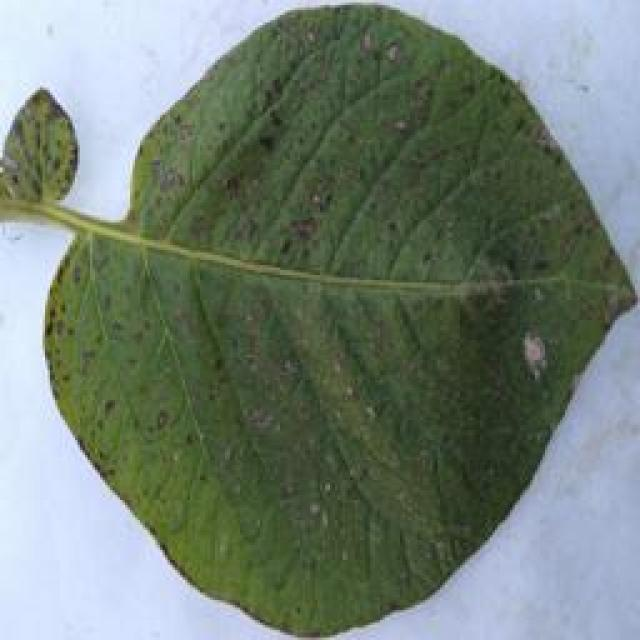Potato_Early_Blight: (35, 5, 640, 640)
